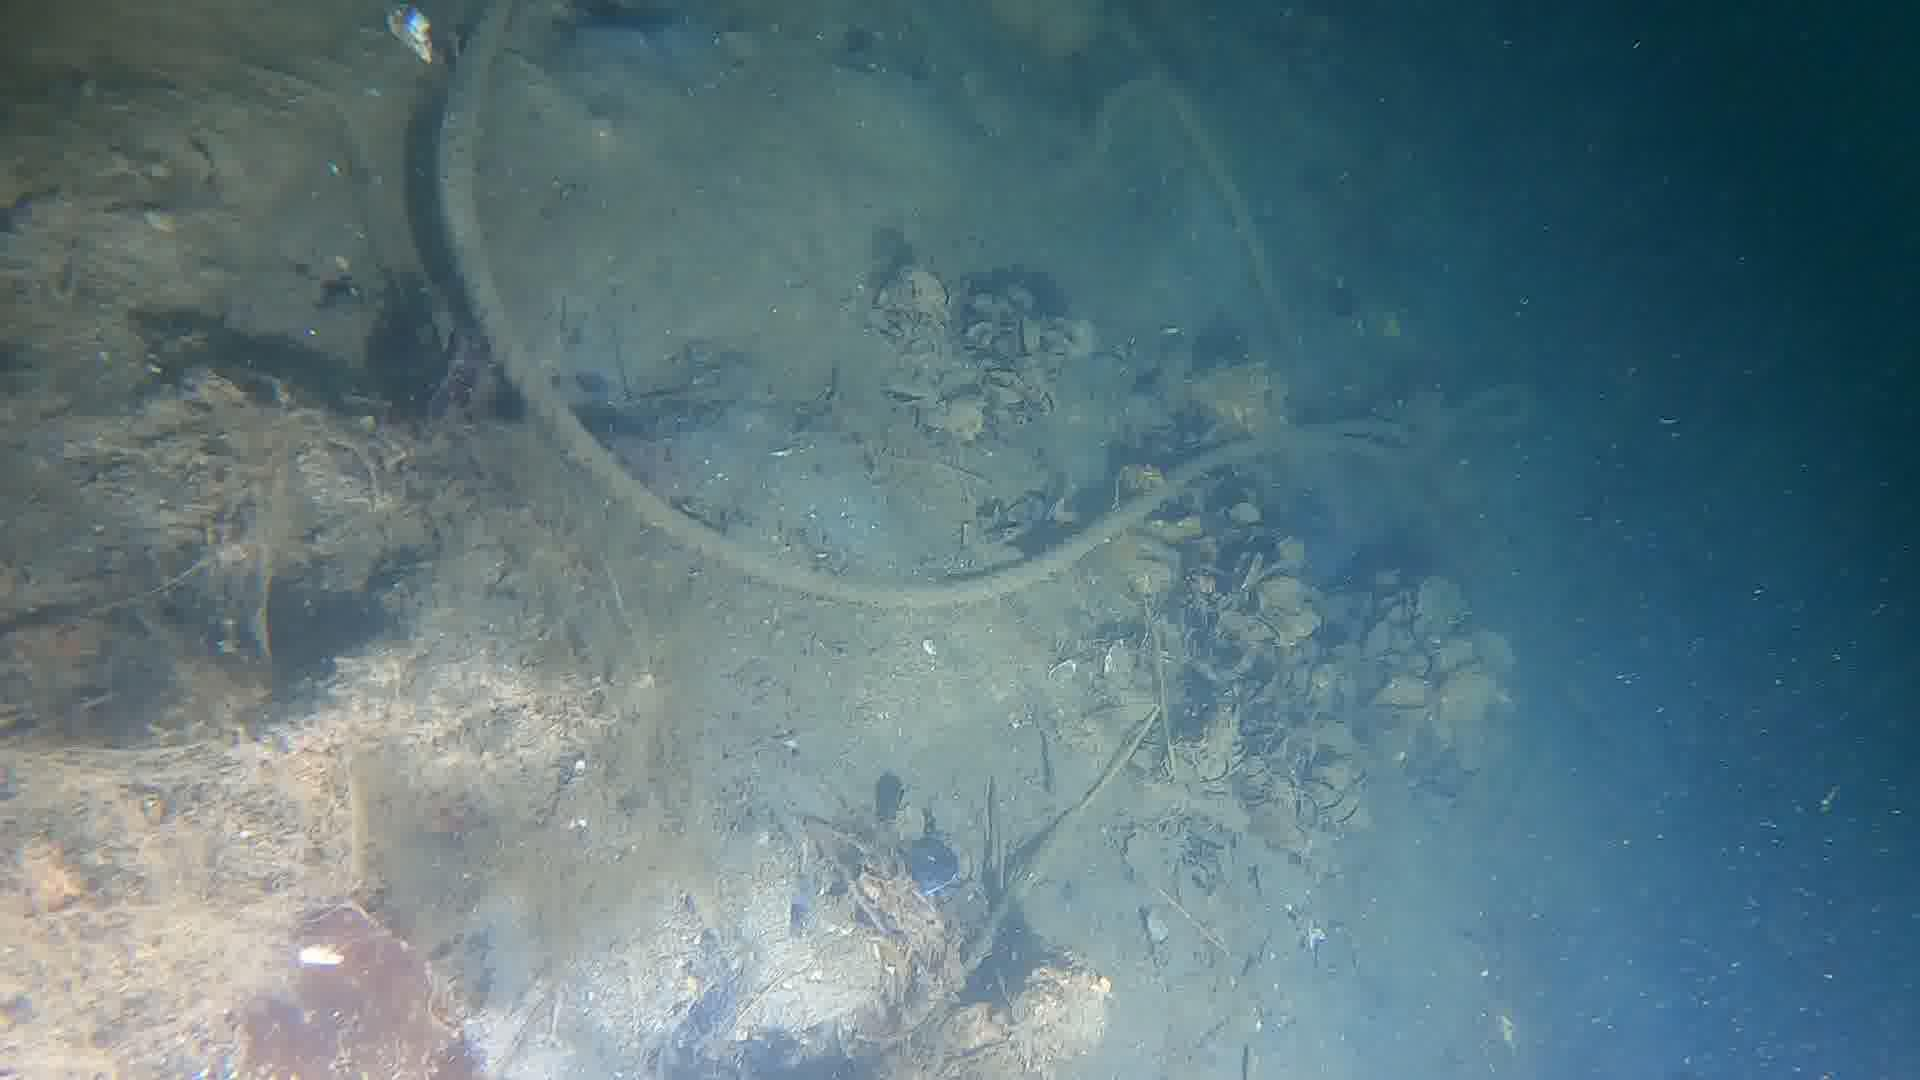rope: (434, 0, 1118, 611)
